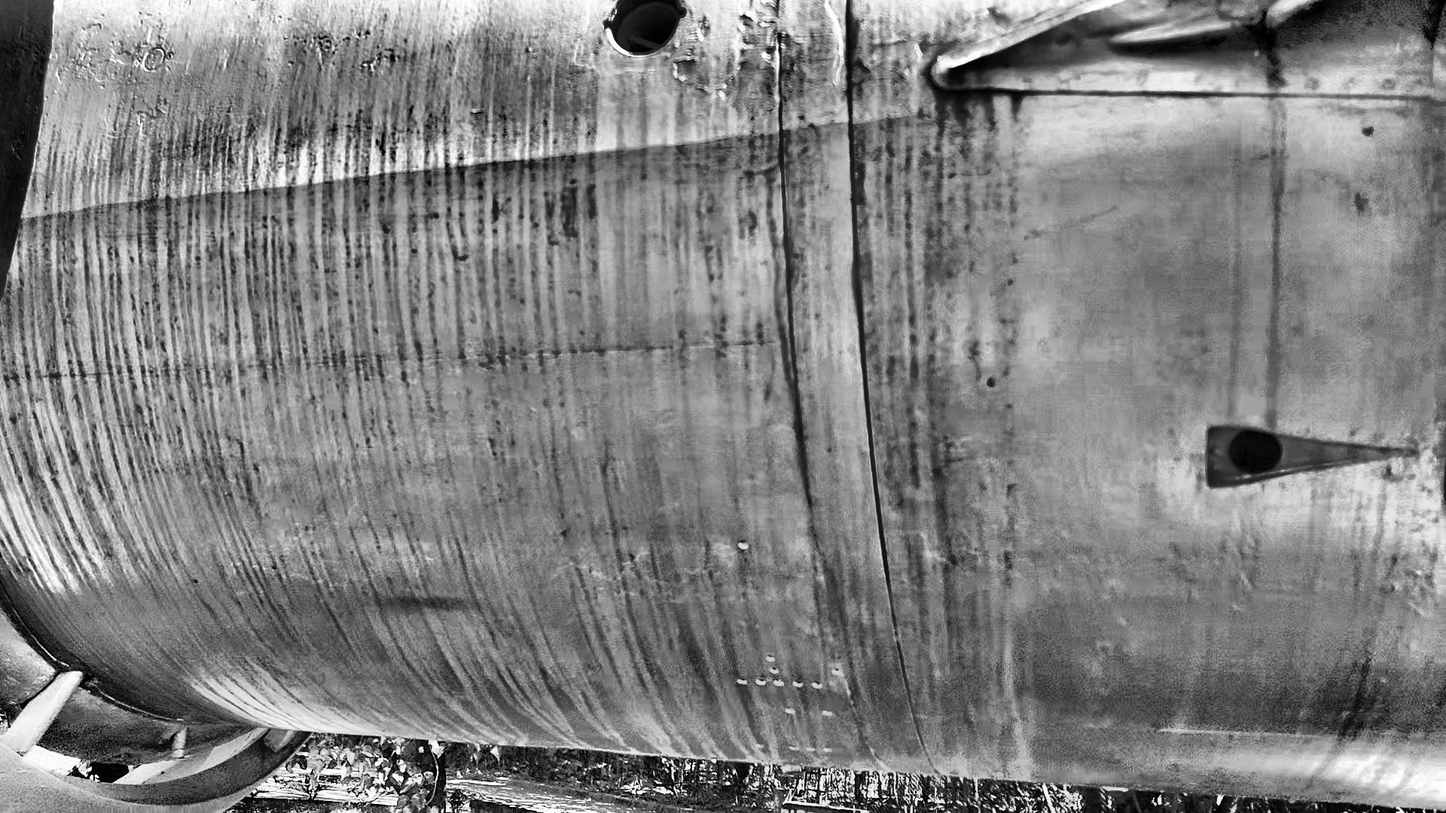dent: (1109, 9, 1258, 49)
missing-head: (774, 678, 785, 687), (756, 677, 767, 686), (832, 667, 843, 676), (812, 681, 823, 689), (766, 654, 776, 662), (793, 680, 804, 687), (737, 677, 748, 684), (770, 667, 779, 674)
paint-peel-off: (675, 59, 695, 82)
